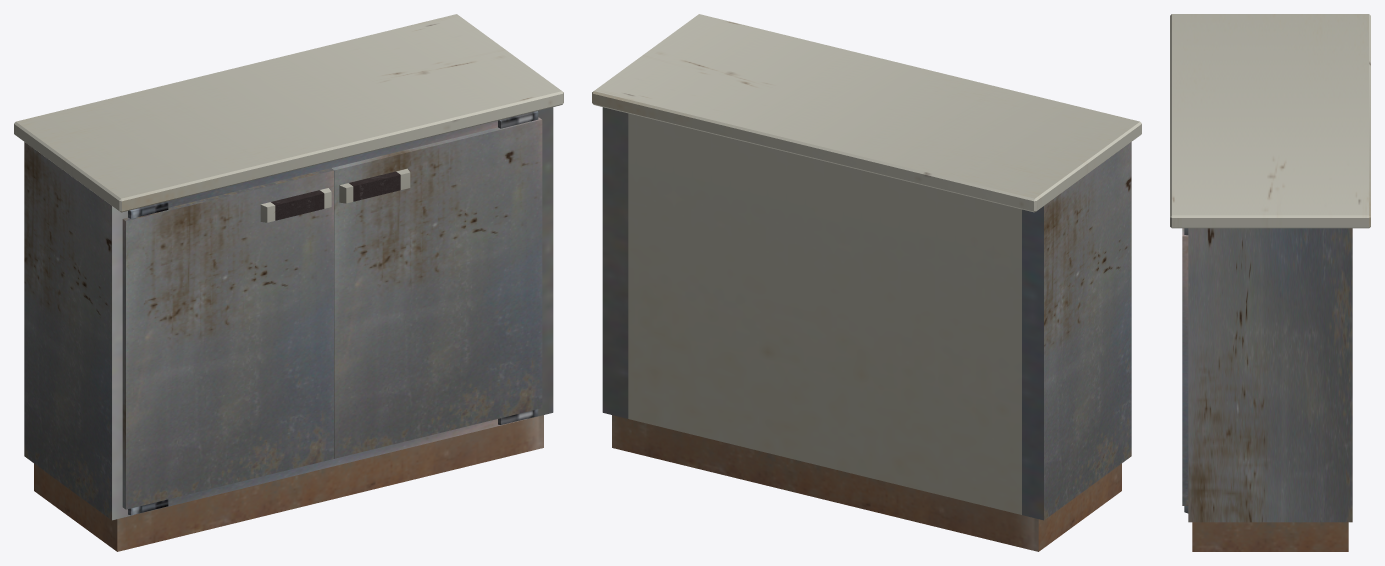
The model's file is pub_sink01.fbx.
3 renders of one model, left to right at view 1: azimuth 30°, elevation 25°; view 2: azimuth 150°, elevation 25°; view 3: azimuth 270°, elevation 25°, orthographic. The views are drawn at different scales.
Parts seen in each view (by area): view 1: pub_sink01; view 2: pub_sink01; view 3: pub_sink01.
Part boxes in pixels (x1,y1,x2,y2): pub_sink01: [14, 14, 563, 551]; pub_sink01: [592, 14, 1141, 551]; pub_sink01: [1170, 14, 1370, 551].
Bounding box in the file's own units: 121 × 94.71 × 50.77.
